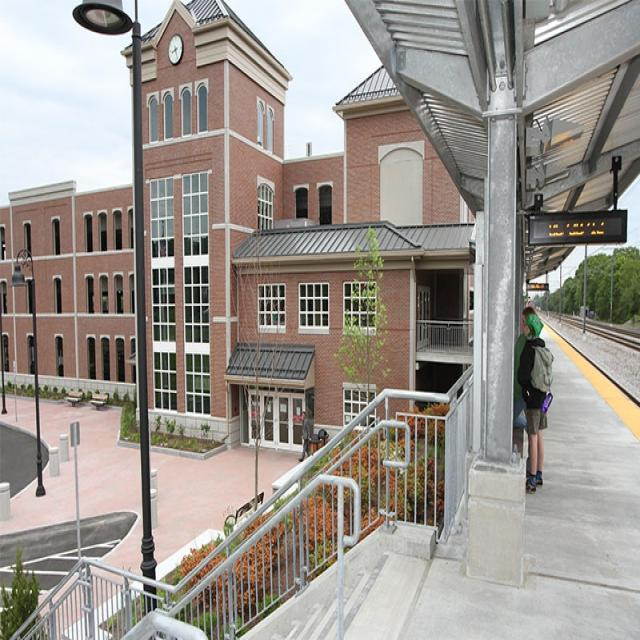body: (517, 314, 549, 496), (513, 305, 537, 481), (298, 411, 312, 463)
